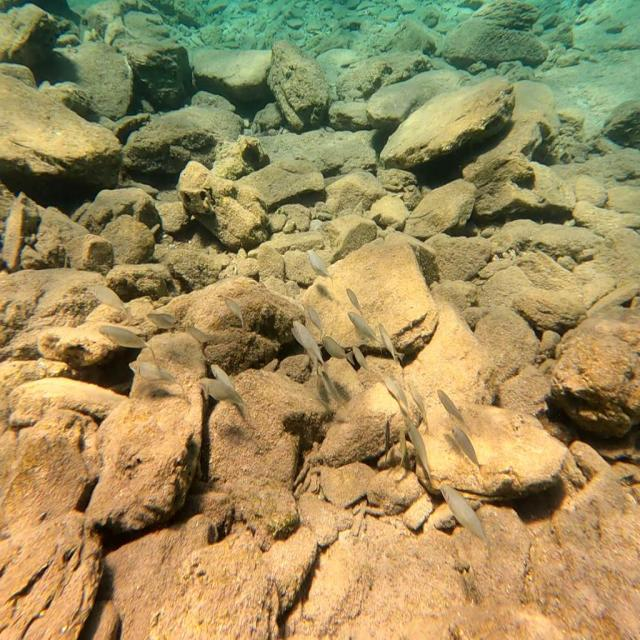Sokar Baligi: (436, 472, 496, 564), (92, 319, 159, 366)
